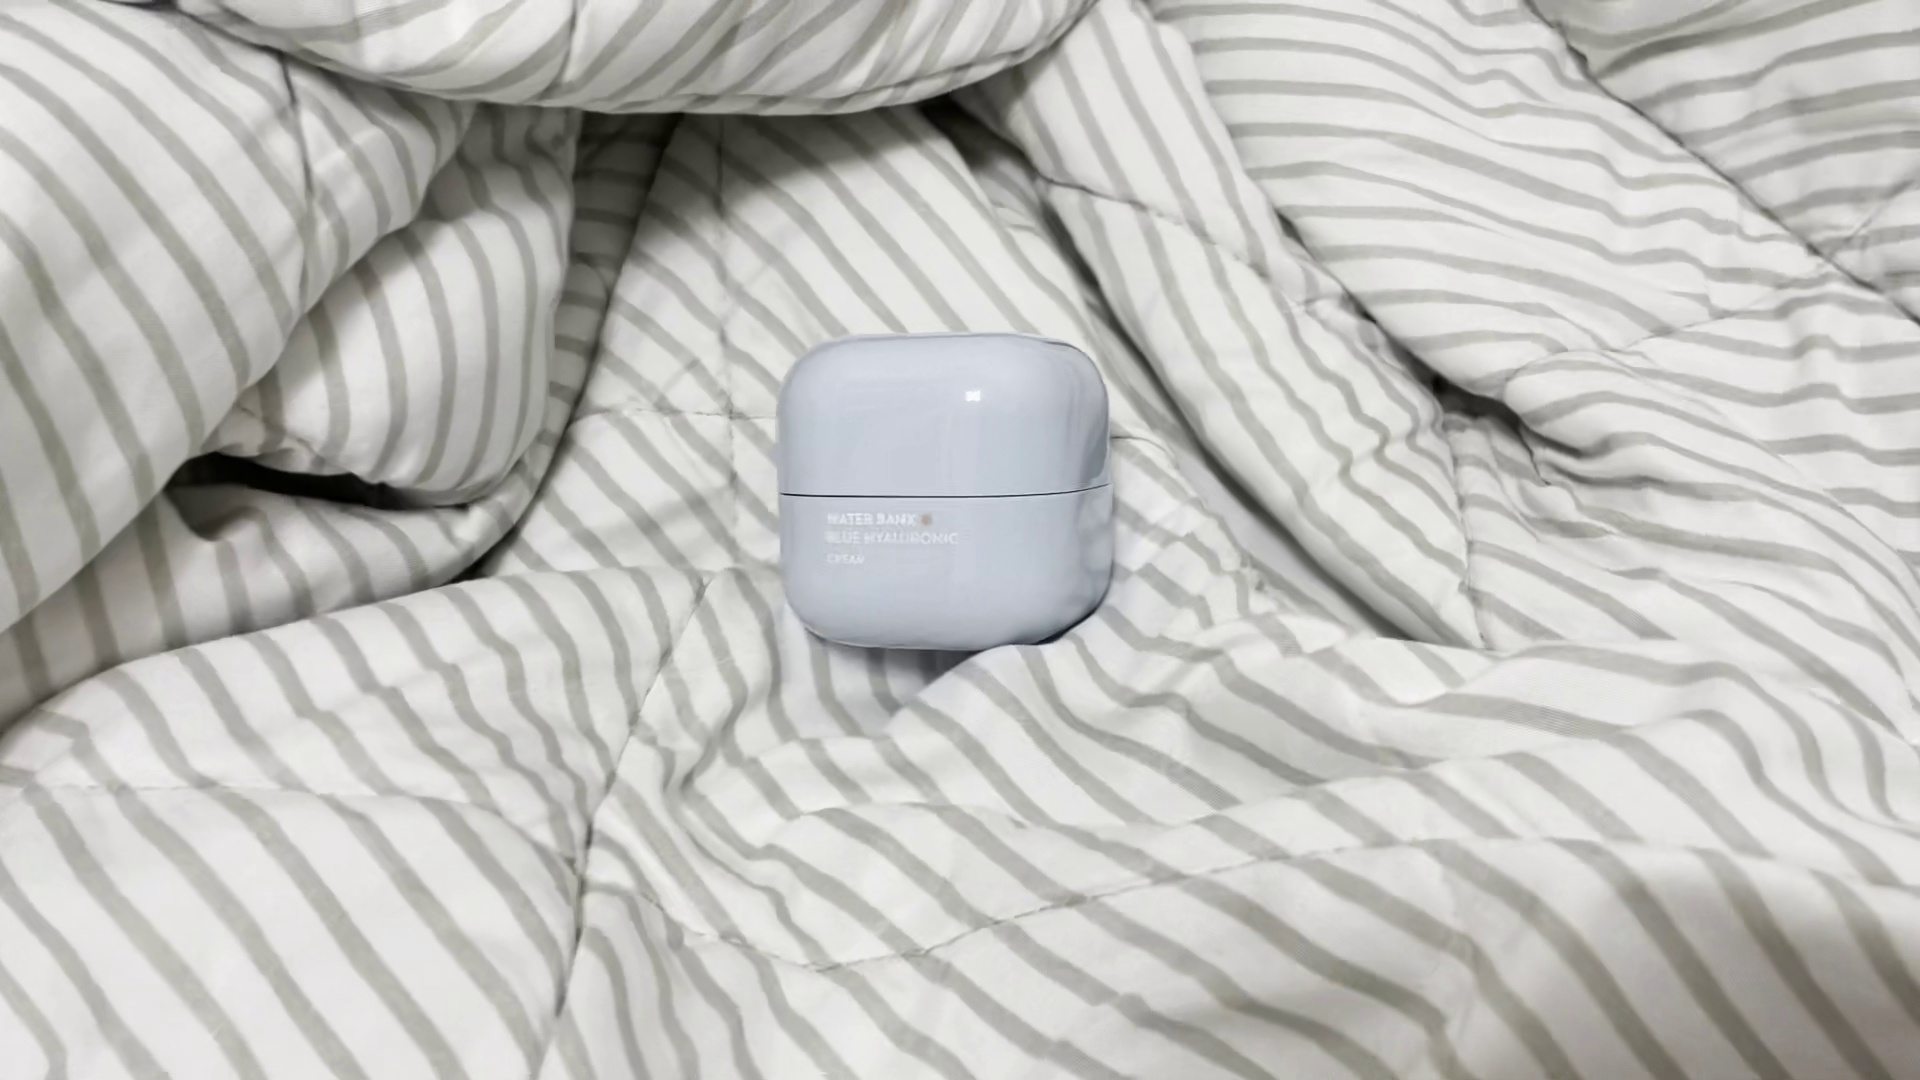cream: (775, 327, 1120, 651)
